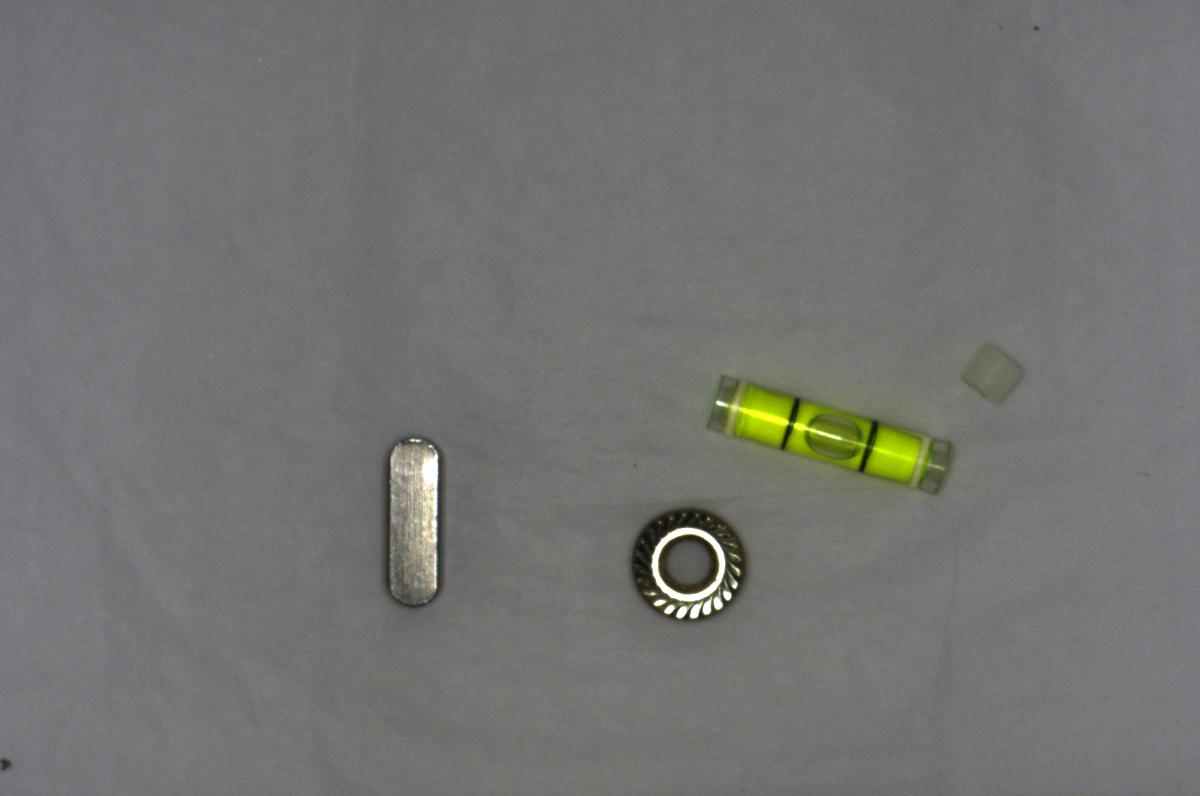Flange nut: (618, 500, 753, 629)
Horizontal bubble: (700, 366, 959, 496)
Keybar: (367, 429, 458, 613)
Plastic cushion pillar: (955, 339, 1033, 407)
